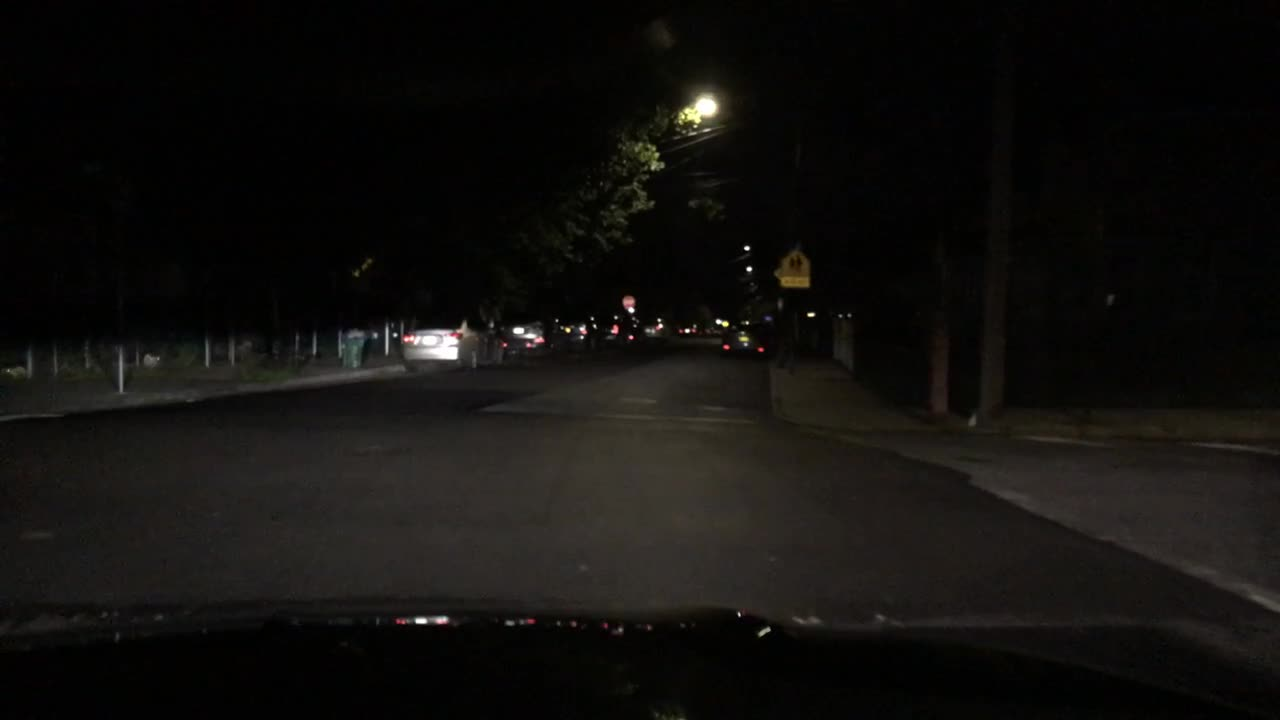car: (400, 301, 507, 376), (497, 313, 554, 360), (545, 310, 597, 350), (719, 324, 767, 359), (587, 312, 623, 347), (617, 313, 647, 346), (641, 315, 671, 340), (677, 320, 699, 336)
traffic sign: (775, 245, 813, 280), (777, 274, 814, 288), (619, 290, 635, 306)
